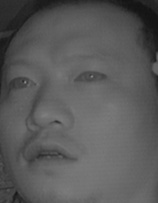eye: (7, 72, 38, 94), (74, 65, 106, 86)
mouth: (20, 135, 79, 174)
